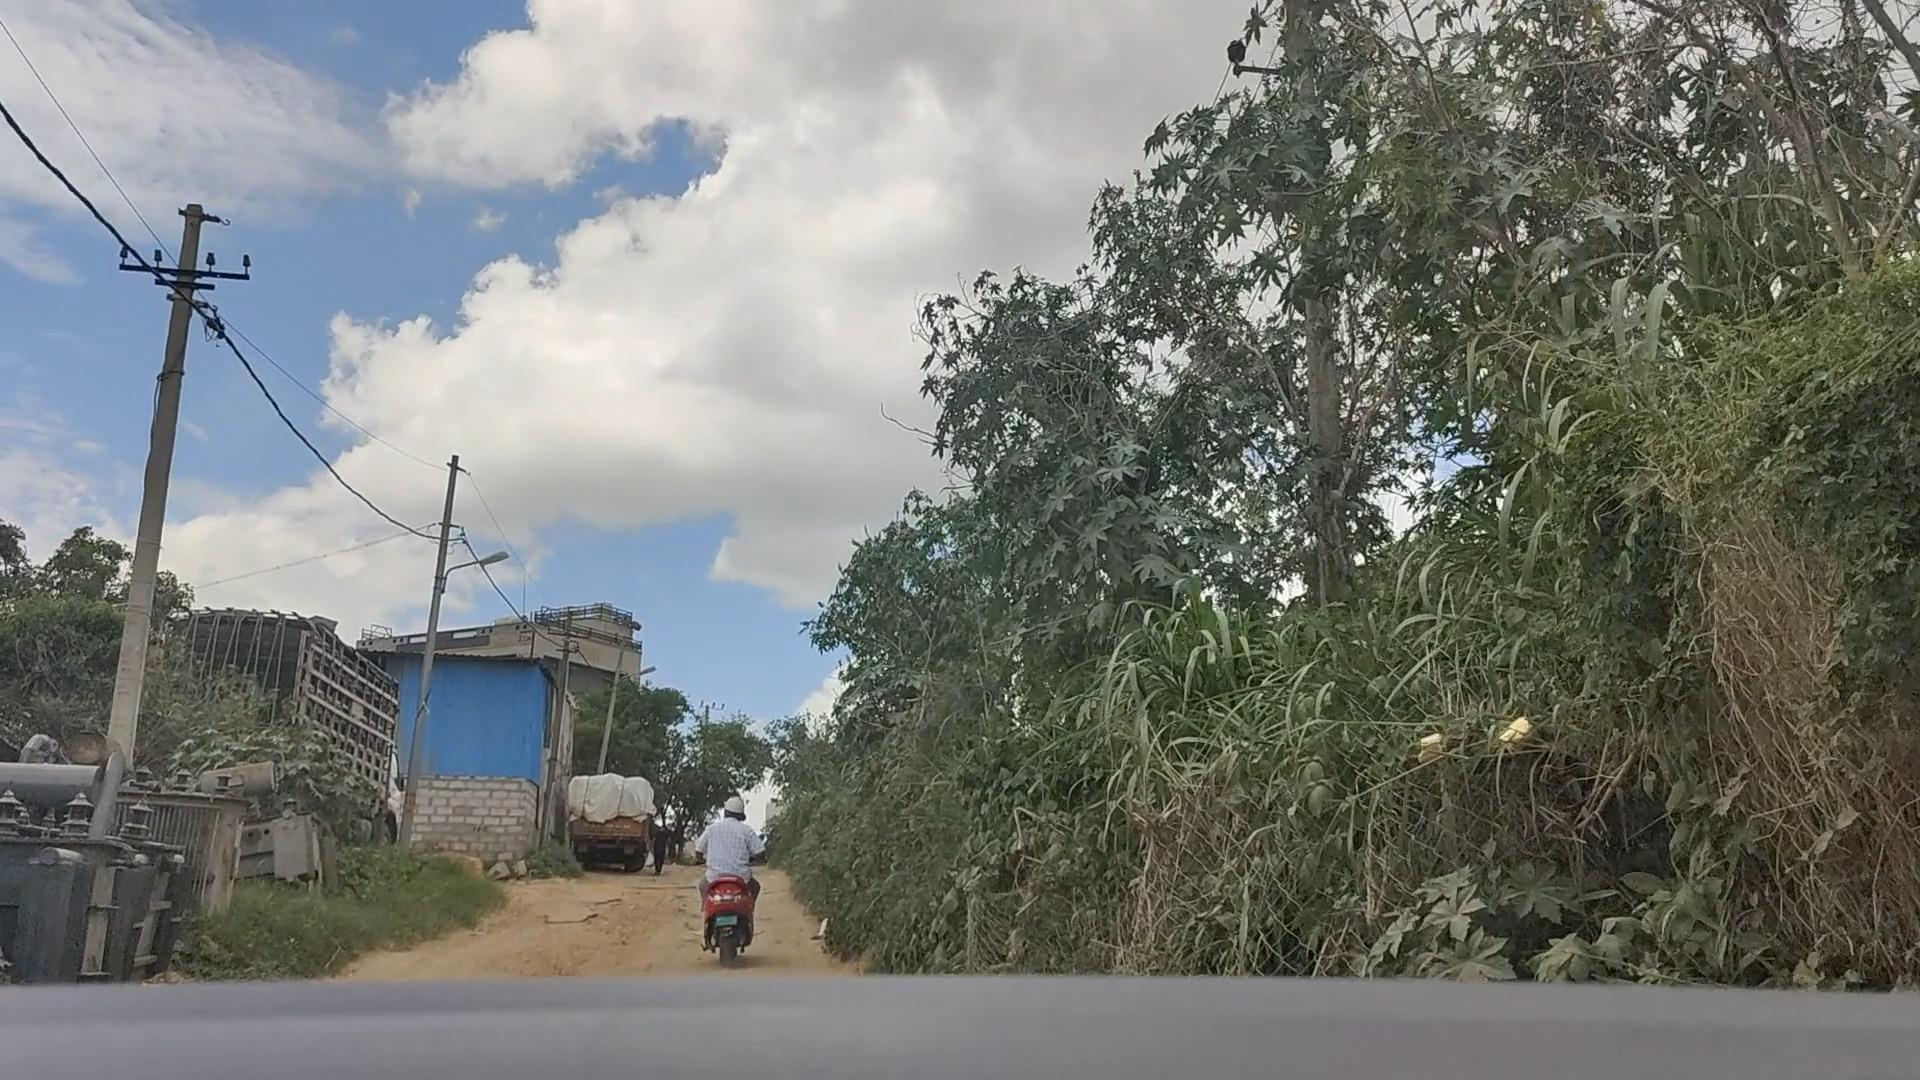HMV: (555, 761, 655, 880)
UnsurfacedRoad: (414, 858, 700, 984)
